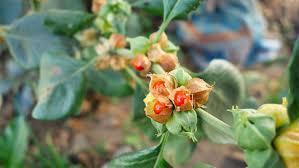healthy_leaf: (23, 16, 270, 163)
